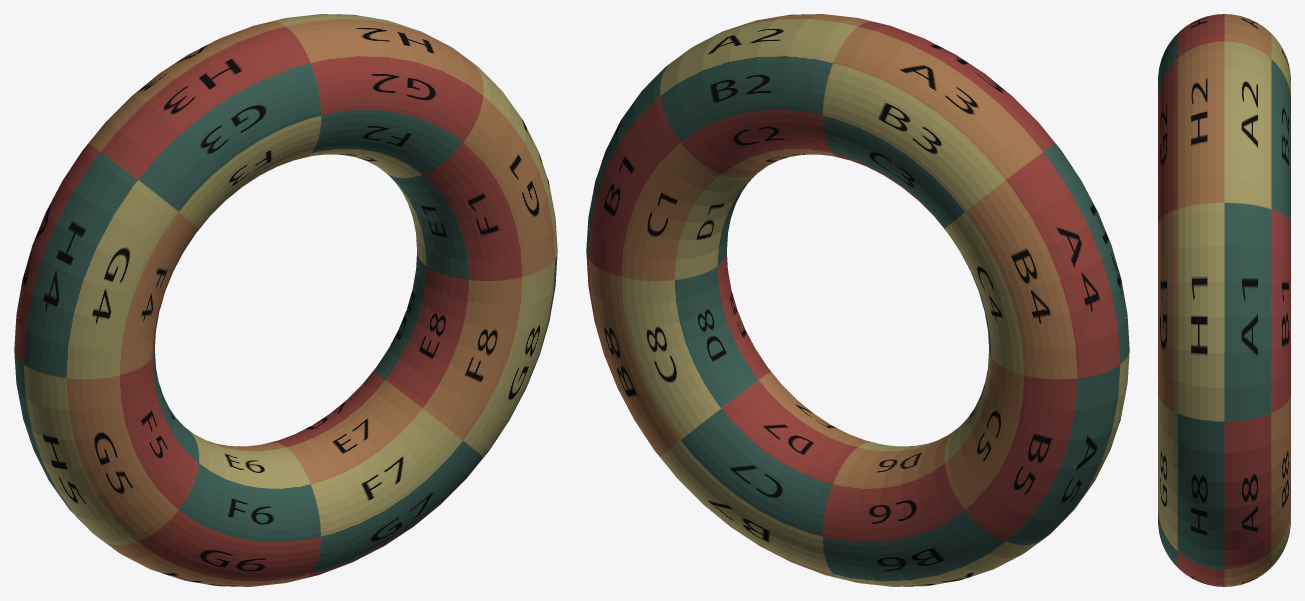
File: texture_torus_R28_r25.glb
The picture shows the model from 3 angles, left to right: view 1: azimuth 30°, elevation 25°; view 2: azimuth 150°, elevation 25°; view 3: azimuth 270°, elevation 25°; orthographic projection. The views are drawn at different scales.
Parts seen in each view (by area): view 1: world; view 2: world; view 3: world.
Boxes of the visible parts, x1,y1,x2,y2 form: world: (14,14,557,586); world: (586,14,1129,586); world: (1158,14,1290,586).
Bounding box in the file's own units: 37.33 × 37.26 × 8.65.
Materials: 1 (1 with a texture image).
